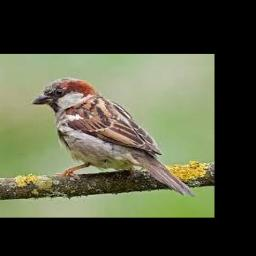Sparrow: (31, 77, 194, 196)
